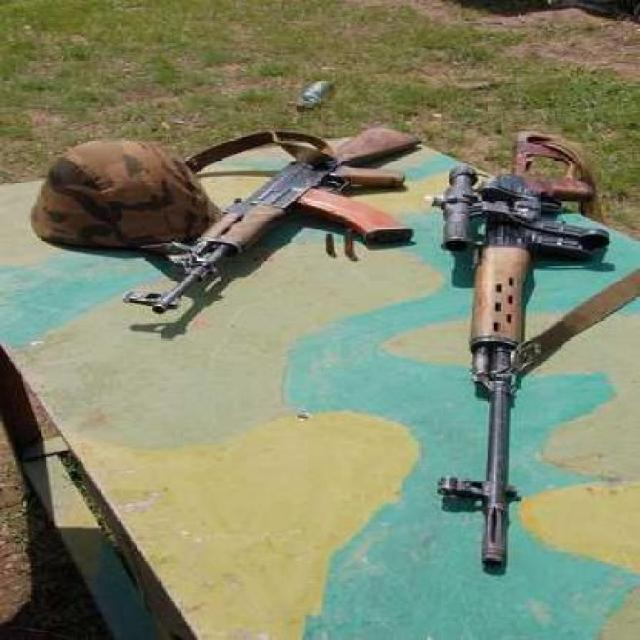heavy-weapon: (429, 128, 612, 566), (121, 126, 424, 313)
